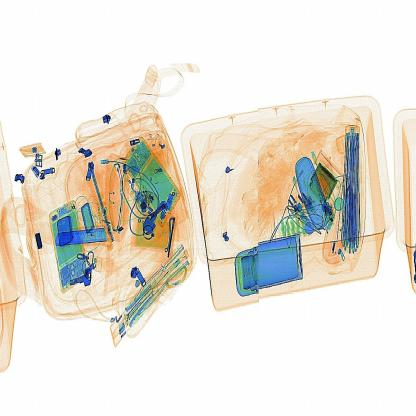pliers: (51, 221, 114, 258)
